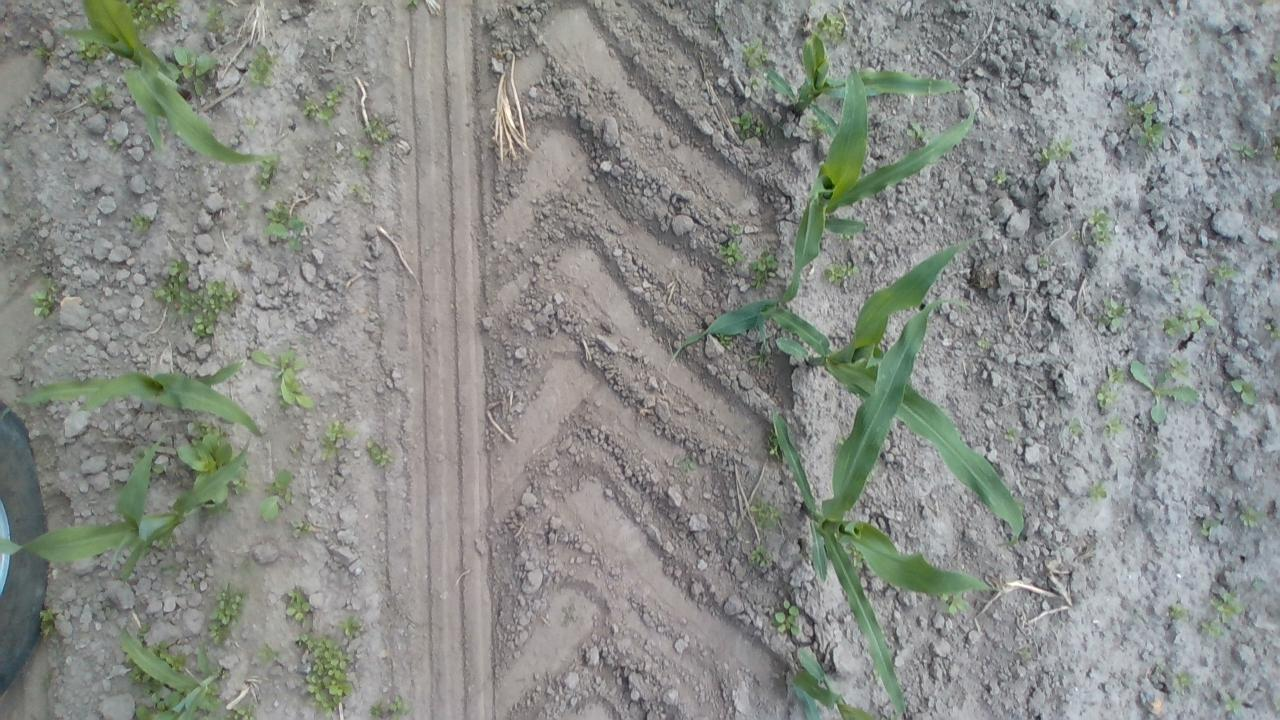Maize: (670, 60, 979, 366), (759, 234, 1026, 546), (769, 408, 1005, 718), (0, 430, 251, 586), (54, 1, 280, 166), (765, 34, 960, 140), (0, 361, 263, 438), (118, 624, 226, 720), (790, 645, 876, 720)
Weeds: (153, 255, 240, 342), (296, 630, 356, 718), (248, 344, 315, 412), (1130, 359, 1199, 425), (176, 421, 237, 473), (164, 43, 222, 96), (207, 582, 250, 646), (1157, 301, 1220, 340), (1124, 98, 1168, 152), (260, 202, 306, 253), (257, 468, 295, 522), (297, 84, 347, 121), (245, 41, 282, 90), (318, 420, 356, 464), (128, 0, 182, 30), (1033, 131, 1076, 168), (746, 249, 780, 292), (31, 273, 62, 316), (150, 639, 188, 673), (1086, 202, 1114, 248), (750, 497, 786, 532), (1088, 293, 1126, 326), (252, 149, 283, 189), (1211, 588, 1245, 621), (357, 115, 391, 148), (770, 600, 801, 636), (362, 435, 398, 464), (1208, 258, 1239, 291), (730, 110, 764, 140), (824, 258, 858, 288), (816, 12, 846, 45), (281, 586, 311, 619), (740, 41, 772, 71), (74, 40, 112, 65), (366, 694, 408, 716), (204, 4, 227, 38), (748, 542, 778, 568), (740, 342, 767, 369), (1229, 378, 1257, 404), (718, 238, 744, 266), (89, 84, 117, 110), (937, 594, 970, 614), (129, 212, 156, 236), (36, 608, 56, 640), (1238, 505, 1267, 527), (1094, 383, 1119, 408), (671, 451, 697, 475), (763, 427, 781, 461), (1198, 616, 1224, 637), (140, 680, 163, 703), (1168, 356, 1192, 378), (352, 144, 374, 168), (1229, 140, 1255, 160), (340, 615, 364, 636), (232, 468, 250, 496), (31, 38, 52, 62), (1223, 692, 1243, 717), (1165, 271, 1192, 289), (202, 686, 220, 712), (1065, 415, 1085, 438), (1168, 600, 1191, 620), (1102, 416, 1124, 436), (1004, 426, 1026, 446), (1173, 670, 1195, 690), (235, 556, 256, 576), (1200, 518, 1222, 537), (289, 521, 312, 539), (906, 121, 926, 140), (256, 640, 275, 660), (847, 546, 865, 567), (1269, 52, 1280, 84), (230, 706, 255, 720), (1090, 480, 1107, 499), (1069, 36, 1089, 51), (1263, 323, 1280, 340), (714, 333, 731, 350), (132, 667, 148, 684), (105, 138, 121, 154), (1037, 252, 1052, 269), (1107, 365, 1124, 380), (136, 618, 148, 638), (236, 197, 250, 214), (809, 119, 824, 134), (992, 170, 1006, 186), (728, 221, 742, 236), (749, 72, 761, 89), (244, 116, 258, 130), (1178, 83, 1194, 95), (974, 336, 991, 347), (836, 232, 856, 241), (1252, 576, 1265, 589), (189, 580, 203, 592), (348, 184, 360, 198), (1272, 190, 1280, 210), (1020, 647, 1032, 659), (1072, 229, 1082, 243), (404, 0, 422, 7), (1272, 144, 1280, 159), (1150, 446, 1158, 457), (1156, 662, 1166, 670)
